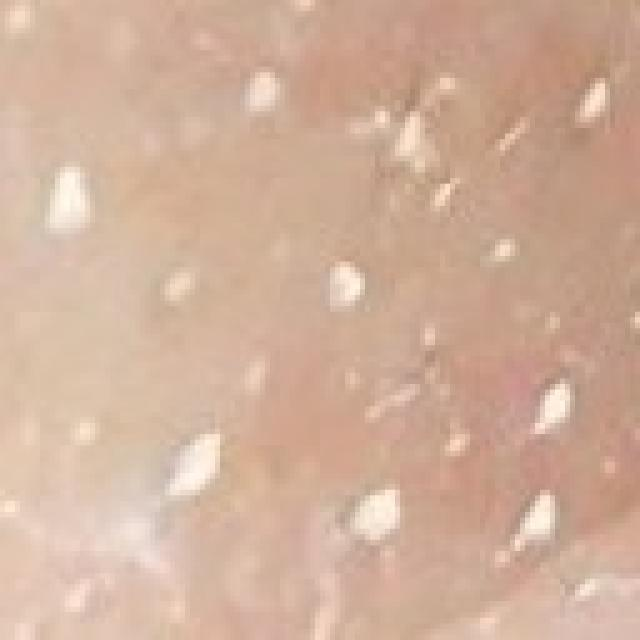whitehead: (2, 8, 621, 617)
